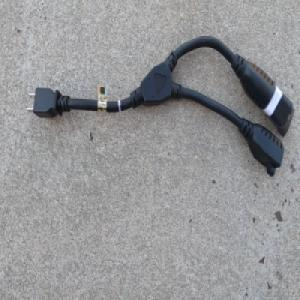Wire: (24, 34, 295, 178)
